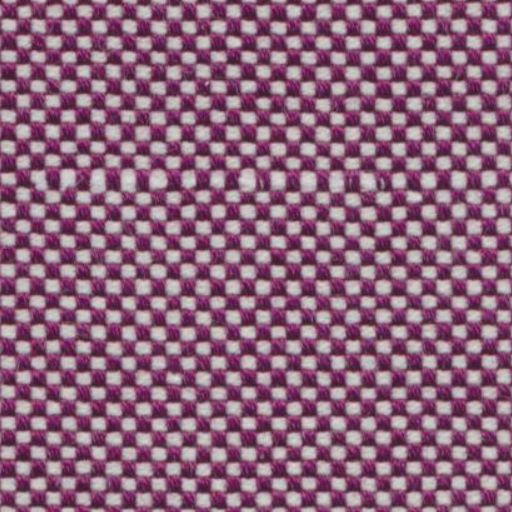DaiSha: (16, 156, 388, 210)
